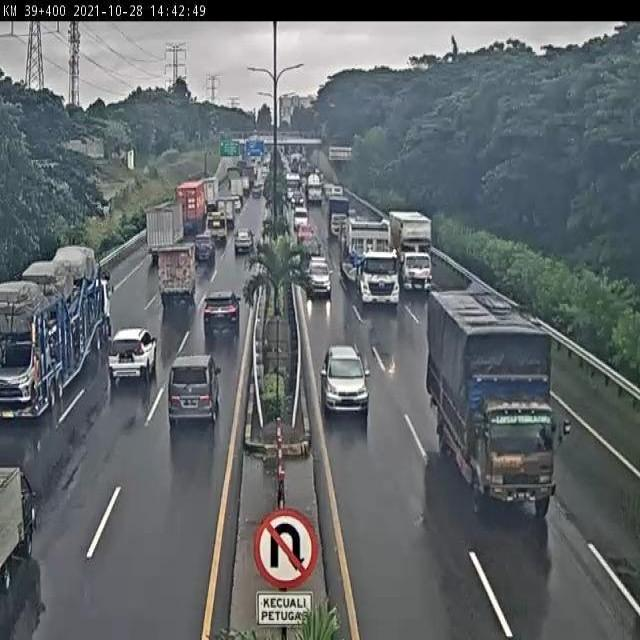big truck: (2, 247, 114, 417), (344, 219, 403, 312), (390, 209, 436, 296)
car: (320, 343, 371, 416), (166, 353, 217, 423), (107, 326, 156, 374), (204, 291, 242, 333), (309, 259, 332, 297), (193, 233, 216, 263), (302, 241, 324, 272), (233, 229, 256, 255), (298, 227, 320, 253)
mid truck: (426, 291, 561, 517), (329, 196, 351, 239), (204, 210, 227, 238)
truck-m-: (157, 238, 199, 310), (145, 199, 188, 264)
